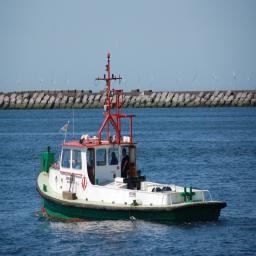tugboat: (33, 39, 230, 236)
